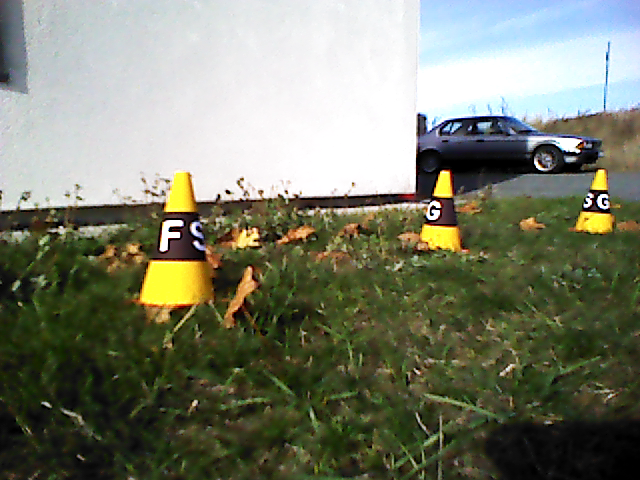yellowcone: (141, 172, 214, 303), (417, 170, 464, 250), (575, 170, 612, 232)
